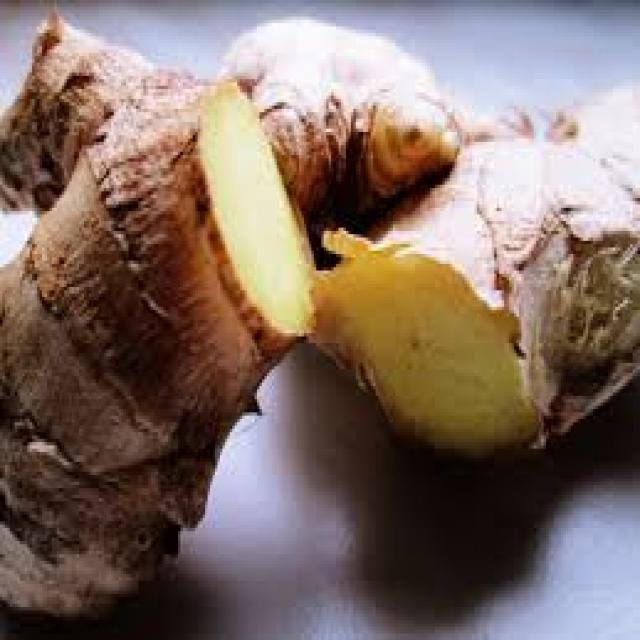organic waste: (0, 3, 314, 617), (296, 102, 638, 452), (215, 14, 526, 248)
